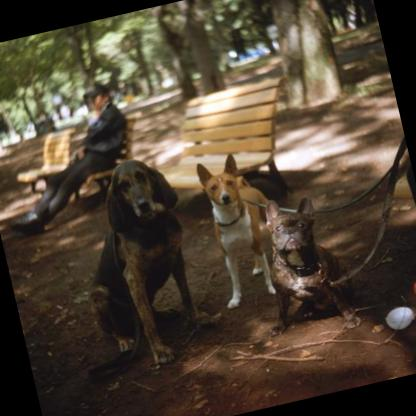basenji: (60, 146, 231, 378), (190, 144, 288, 308)
